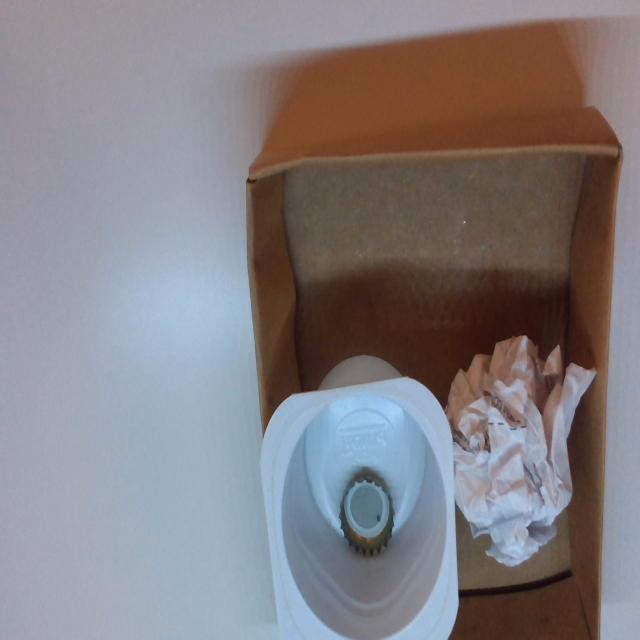Cardboard: (242, 103, 624, 640)
Paper: (447, 332, 600, 566)
Plastic: (259, 350, 461, 640)
